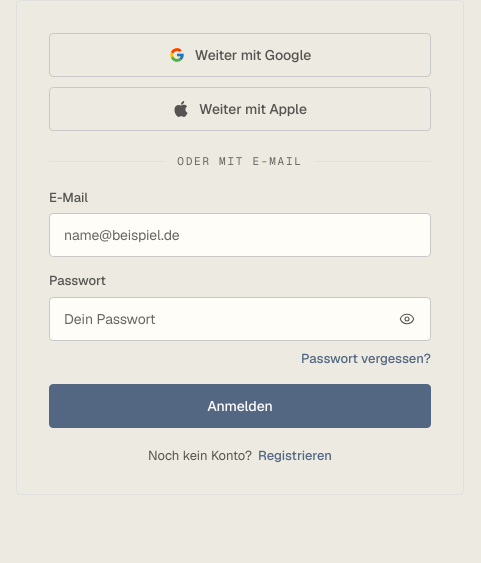
LoginForm › error handling › validates email and password before sending the request
Step 1. Click the button "Anmelden" → (240, 406), box [49,384,431,428]
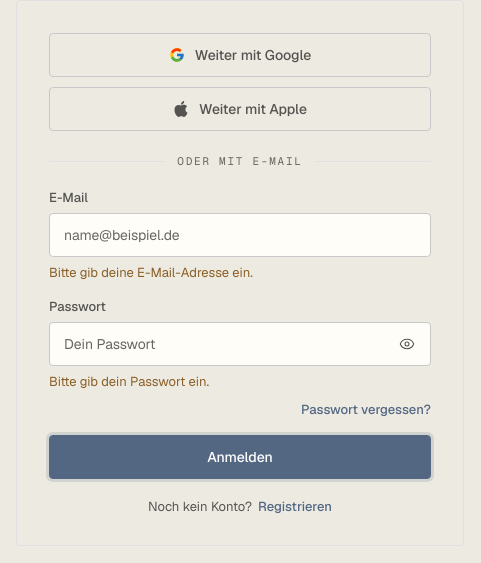
Now the number of messages is 2, box [49,264,253,281]; [49,373,209,390]
Now the text "Bitte gib deine E-Mail-Adresse ein." is shown, box [49,264,253,281]
Now the text "Bitte gib dein Passwort ein." is shown, box [49,373,209,390]
